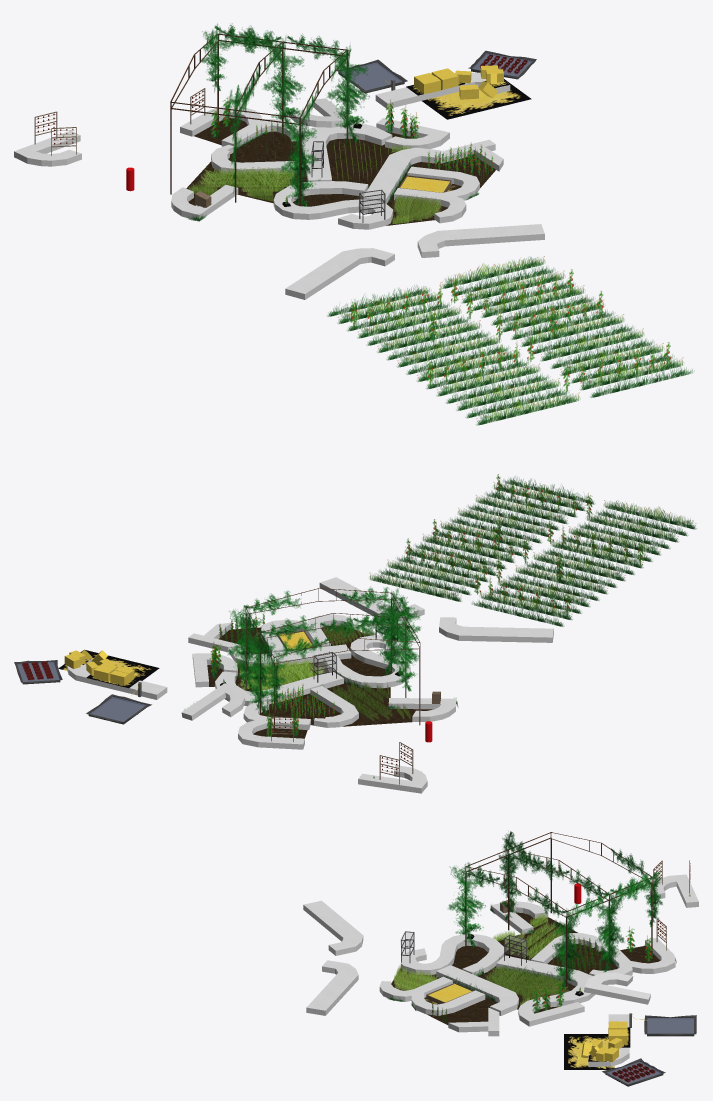
File: Pole-Terre.gltf
3 views of the same model, one above another, from view 1: azimuth 30°, elevation 25°; view 2: azimuth 150°, elevation 25°; view 3: azimuth 270°, elevation 25° (orthographic). The views are drawn at different scales.
Parts seen in each view (by area): view 1: herbes2, herbes2.001, Terre, herbes, herbes.013, 1, Ossature.002, 6.003, 2, 6.002, 5, 2.001 (+26 smaller); view 2: herbes2.001, herbes2, Terre, herbes.013, herbes, 1, 2.001, 6.002, Ossature.002, 5, 2, 6 (+29 smaller); view 3: Terre, 1, Ossature.002, 2, 5, 6.002, 6.003, 6, 2.001, grimpante.002, 3.002, Bas_Plastic_eau.001 (+19 smaller).
Part boxes in pixels (x1=…): herbes2: x1=442, y1=256, x2=683, y2=390; herbes2.001: x1=337, y1=291, x2=580, y2=425; Terre: x1=186, y1=118, x2=495, y2=225; herbes: x1=327, y1=285, x2=568, y2=418; herbes.013: x1=451, y1=264, x2=692, y2=397; 1: x1=273, y1=181, x2=393, y2=229; Ossature.002: x1=170, y1=33, x2=348, y2=206; 6.003: x1=417, y1=224, x2=544, y2=257; 2: x1=394, y1=166, x2=479, y2=223; 6.002: x1=285, y1=248, x2=394, y2=299; 5: x1=301, y1=122, x2=392, y2=181; 2.001: x1=180, y1=105, x2=302, y2=146; herbes2.001: x1=480, y1=500, x2=696, y2=620; herbes2: x1=369, y1=482, x2=585, y2=601; Terre: x1=207, y1=626, x2=433, y2=738; herbes.013: x1=379, y1=476, x2=595, y2=595; herbes: x1=472, y1=508, x2=688, y2=626; 1: x1=324, y1=635, x2=410, y2=688; 2.001: x1=238, y1=701, x2=310, y2=749; 6.002: x1=439, y1=617, x2=553, y2=642; Ossature.002: x1=245, y1=588, x2=420, y2=736; 5: x1=215, y1=671, x2=343, y2=706; 2: x1=260, y1=614, x2=352, y2=652; 6: x1=229, y1=644, x2=351, y2=665; Terre: x1=391, y1=912, x2=660, y2=1024; 1: x1=401, y1=934, x2=504, y2=975; Ossature.002: x1=465, y1=832, x2=652, y2=991; 2: x1=379, y1=976, x2=485, y2=1015; 5: x1=496, y1=955, x2=595, y2=1007; 6.002: x1=303, y1=900, x2=363, y2=955; 6.003: x1=306, y1=960, x2=358, y2=1015; 6: x1=436, y1=965, x2=518, y2=1015; 2.001: x1=589, y1=938, x2=675, y2=975; grimpante.002: x1=447, y1=864, x2=485, y2=947; 3.002: x1=584, y1=972, x2=650, y2=1004; Bas_Plastic_eau.001: x1=644, y1=1015, x2=696, y2=1036.
Bounding box in the file's own units: 42.83 × 10.61 × 59.45.
Materials: 30 (19 with a texture image).
